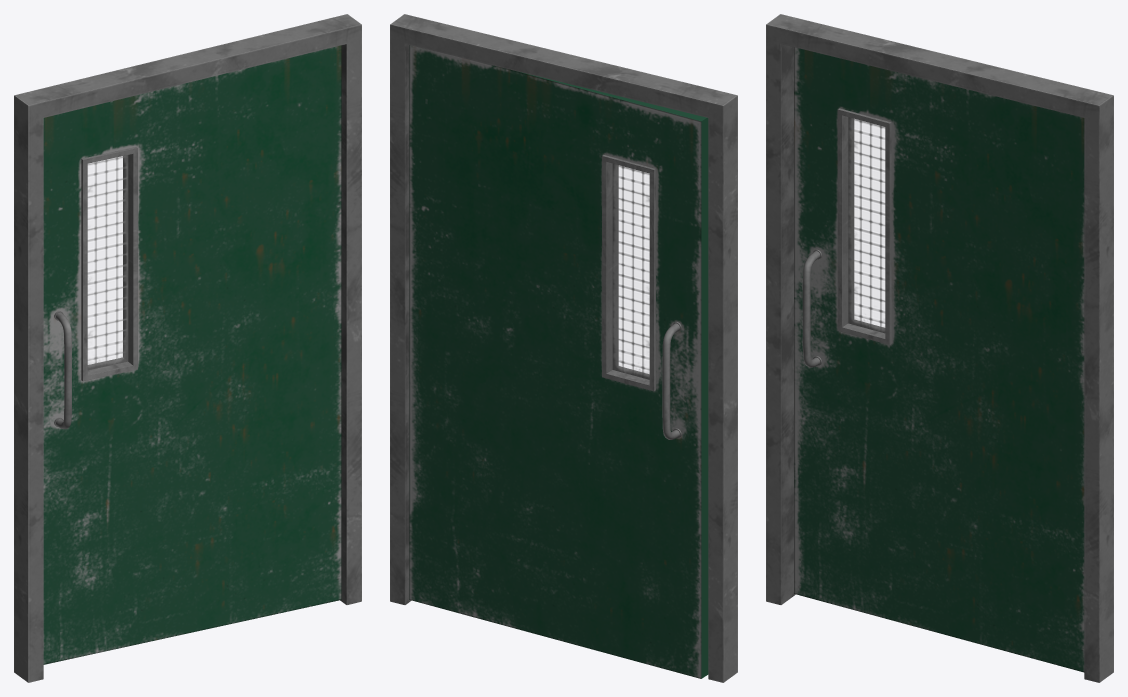
Rendered from hospital_door_old_free.glb.
The picture shows the model from 3 angles, left to right: view 1: azimuth 30°, elevation 25°; view 2: azimuth 150°, elevation 25°; view 3: azimuth 330°, elevation 25°; orthographic projection.
Visible parts, largest first — view 1: Glass, Cube; view 2: Glass, Cube; view 3: Glass, Cube.
Boxes of the visible parts, x1,y1,x2,y2 form: Glass: [43, 45, 341, 664]; Cube: [14, 14, 361, 682]; Glass: [409, 45, 708, 678]; Cube: [390, 14, 737, 682]; Glass: [794, 47, 1084, 672]; Cube: [766, 14, 1113, 682].
Bounding box in the file's own units: 2.09 × 3.46 × 0.3557.
Materials: 1 (1 with a texture image).
